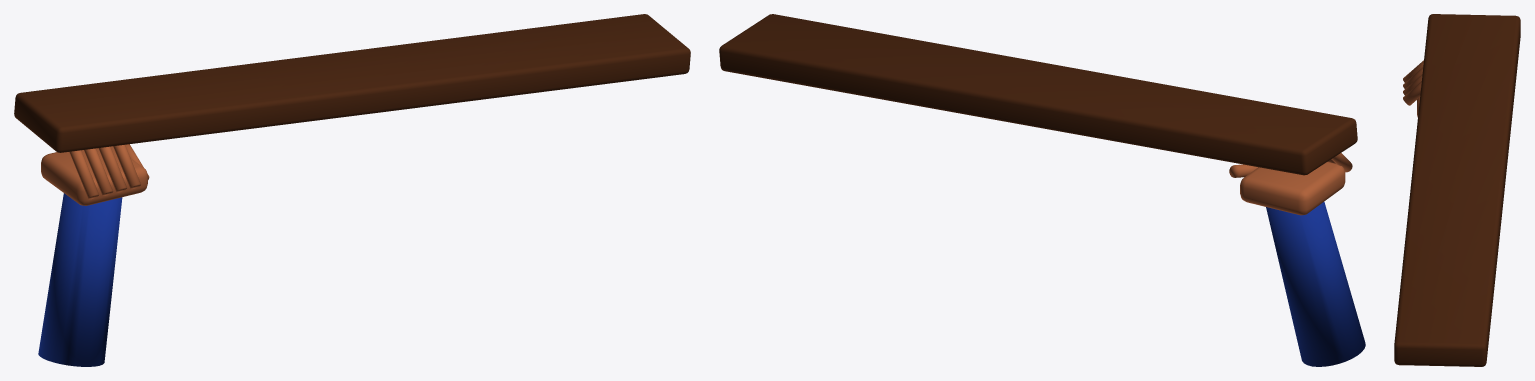
The model's file is wooden-plank-held-in-hand.obj.
3 views of the same model, side by side, from view 1: azimuth 30°, elevation 25°; view 2: azimuth 150°, elevation 25°; view 3: azimuth 270°, elevation 25° (orthographic). The views are drawn at different scales.
Visible parts, largest first — view 1: wooden-plank-held-in-hand; view 2: wooden-plank-held-in-hand; view 3: wooden-plank-held-in-hand.
Part boxes in pixels (x1=…): wooden-plank-held-in-hand: x1=14, y1=14, x2=690, y2=366; wooden-plank-held-in-hand: x1=719, y1=14, x2=1365, y2=366; wooden-plank-held-in-hand: x1=1394, y1=14, x2=1520, y2=366.
Size of the model in its own units: 1.17 by 0.4344 by 0.219.
